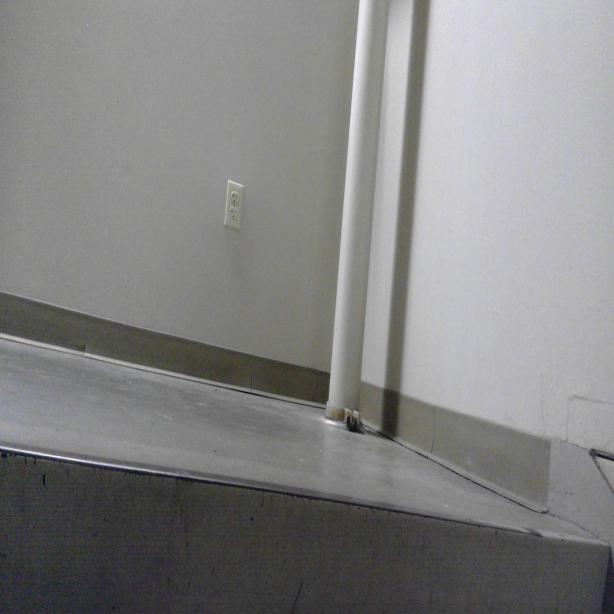typeb: (231, 189, 240, 206), (228, 206, 238, 220)
